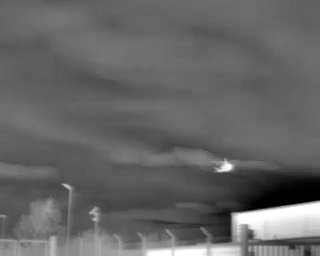HELICOPTER: (210, 152, 242, 179)
